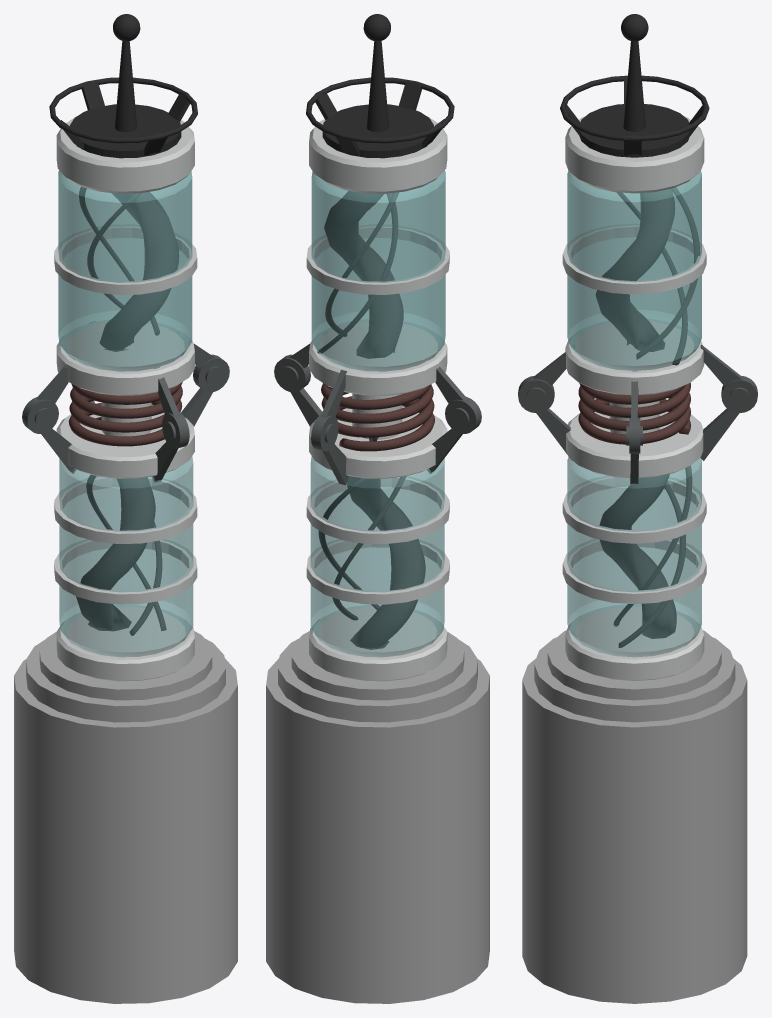
The model's file is 2 glass with UV.fbx.
3 views of the same model, side by side, from view 1: azimuth 30°, elevation 25°; view 2: azimuth 150°, elevation 25°; view 3: azimuth 270°, elevation 25° (orthographic).
Visible parts, largest first — view 1: pCylinder6, pasted__pCylinder1, pCylinder1, pCylinder14, pasted__pCylinder2, pasted__pasted__pCylinder2, polySurface2, pasted__pasted__pHelix1, pasted__pHelix1, pHelix1, pCylinder2, pasted__pCylinder7 (+9 smaller); view 2: pCylinder6, pasted__pCylinder1, pCylinder1, pCylinder14, pasted__pCylinder2, pasted__pasted__pCylinder2, polySurface2, pasted__pasted__pHelix1, pasted__pHelix1, pHelix1, pasted__pasted__pasted__pCube3 (×2), pCylinder2 (+8 smaller); view 3: pCylinder6, pasted__pCylinder1, pCylinder1, pCylinder14, pasted__pCylinder2, pasted__pasted__pCylinder2, polySurface2, pasted__pasted__pHelix1, pCylinder2, pHelix1, pasted__pHelix1, pCylinder7 (+7 smaller).
Boxes of the visible parts, x1,y1,x2,y2 form: pCylinder6: [14, 631, 237, 1003]; pasted__pCylinder1: [58, 170, 192, 371]; pCylinder1: [59, 456, 193, 657]; pCylinder14: [49, 14, 197, 158]; pasted__pCylinder2: [56, 605, 194, 681]; pasted__pasted__pCylinder2: [56, 320, 194, 395]; polySurface2: [56, 115, 194, 193]; pasted__pasted__pHelix1: [100, 192, 178, 351]; pasted__pHelix1: [76, 416, 155, 631]; pHelix1: [68, 382, 182, 446]; pCylinder2: [56, 404, 194, 478]; pasted__pCylinder7: [54, 476, 197, 543]; pCylinder6: [266, 631, 489, 1003]; pasted__pCylinder1: [311, 170, 445, 371]; pCylinder1: [310, 456, 444, 657]; pCylinder14: [306, 14, 454, 158]; pasted__pCylinder2: [309, 605, 447, 681]; pasted__pasted__pCylinder2: [309, 319, 447, 395]; polySurface2: [309, 115, 447, 193]; pasted__pasted__pHelix1: [324, 191, 403, 358]; pasted__pHelix1: [346, 437, 425, 649]; pHelix1: [321, 383, 434, 451]; pasted__pasted__pasted__pCube3 (×2): [274, 344, 349, 485]; pCylinder2: [309, 406, 447, 478]; pCylinder6: [522, 630, 747, 1003]; pasted__pCylinder1: [567, 171, 701, 370]; pCylinder1: [567, 457, 701, 657]; pCylinder14: [560, 14, 709, 157]; pasted__pCylinder2: [565, 604, 704, 680]; pasted__pasted__pCylinder2: [565, 319, 704, 395]; polySurface2: [565, 116, 704, 193]; pasted__pasted__pHelix1: [596, 189, 674, 351]; pCylinder2: [566, 411, 703, 478]; pHelix1: [578, 382, 690, 444]; pasted__pHelix1: [599, 474, 676, 638]; pCylinder7: [562, 224, 706, 294].
Size of the model in its own units: 2.08 by 9.24 by 2.13.
